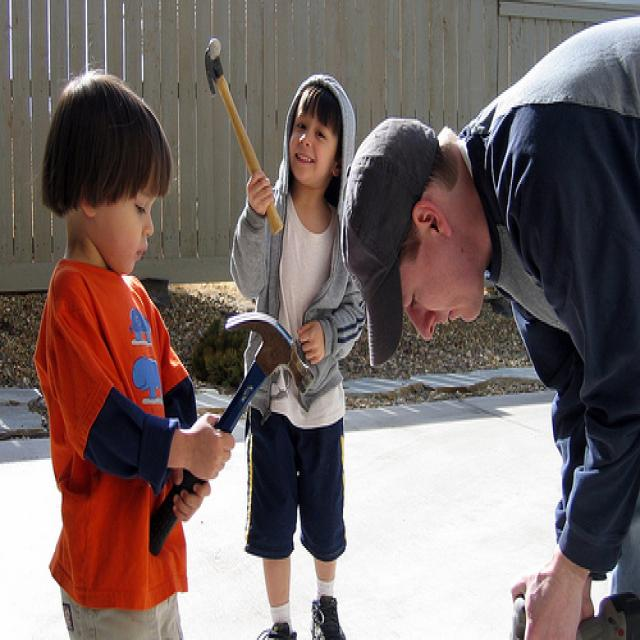hammer: (161, 308, 329, 476), (198, 17, 272, 213)
